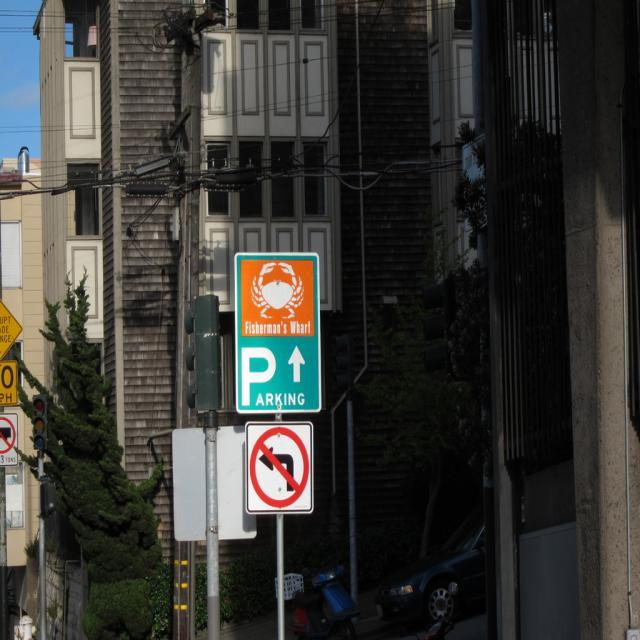obstructed_road_sign: (0, 413, 17, 456)
off traffic light: (32, 394, 47, 450)
road_sign: (245, 424, 315, 513)
